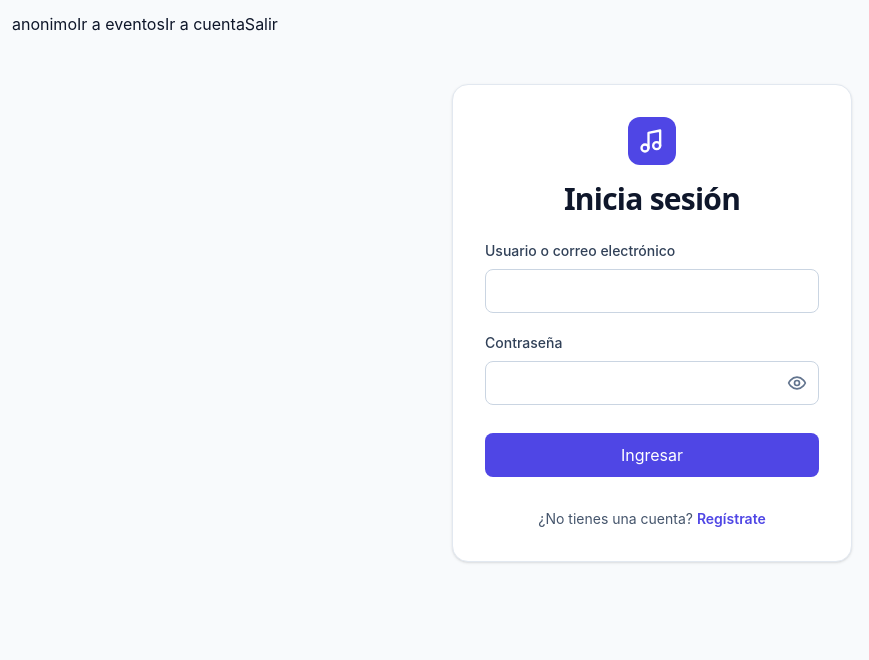
Test: Session continuity during navigation › keeps invalid-credentials feedback inside the real anonymous guard
Type "ana" into the field labelled "Usuario o correo electrónico" at (652,291), box [485,269,819,313]
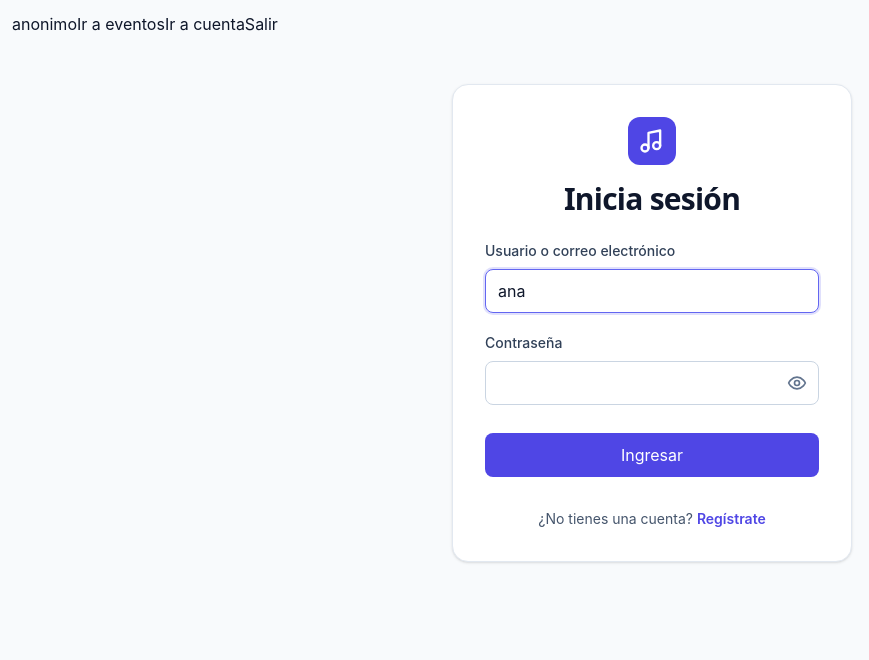
Type "incorrect-password" into the password field labelled "Contraseña" at (652,383), box [485,361,819,405]
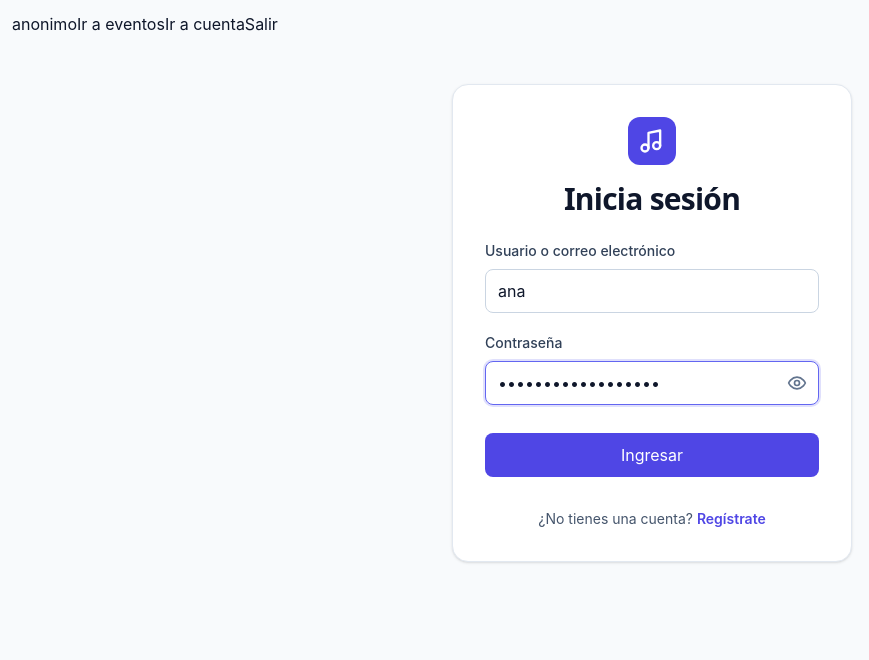
Click the button "Ingresar" at (652,455), box [485,433,819,477]
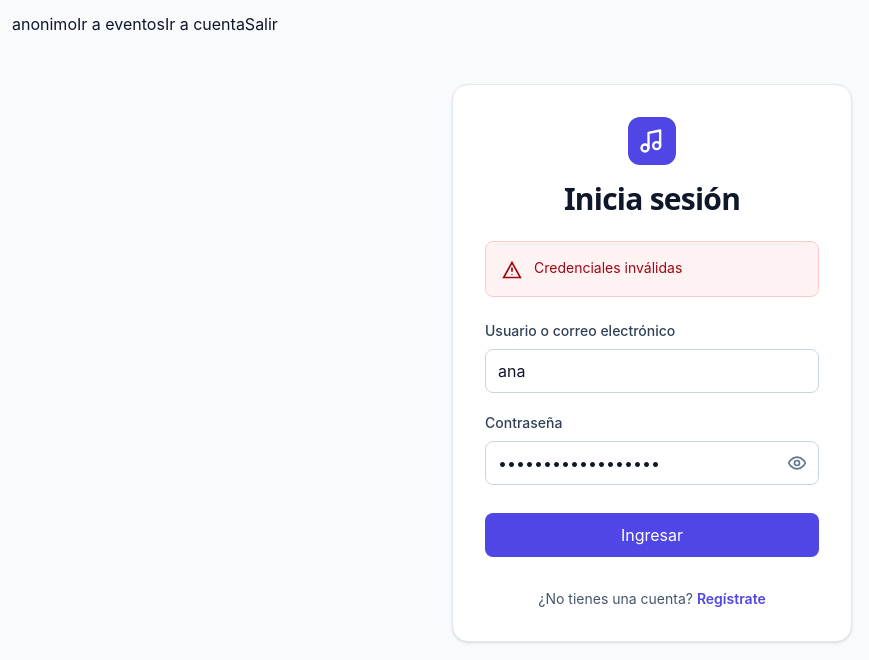
Expected: the message reads "Credenciales inválidas", [534,259,682,276]
